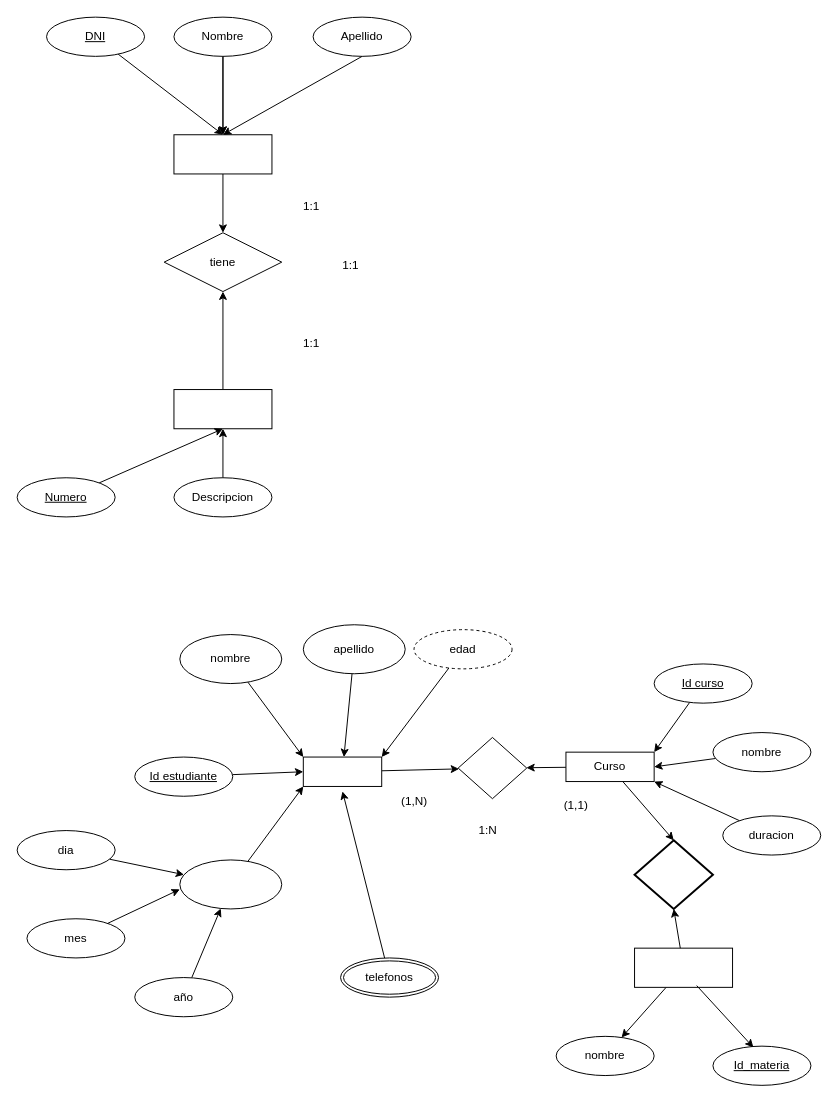
Some shapes in this 838 by 1103 pixel diagram are drawn without their labels. The box of each missing label's shape, as (x1, y1, x2, y2) in pixels:
Estudiante: (302, 756, 382, 786)
Expediente: (173, 389, 272, 429)
fecha de nacimiento: (179, 859, 282, 909)
Materias: (634, 947, 733, 987)
Persona: (173, 134, 272, 174)
Pertenece: (633, 839, 713, 909)
realizan: (457, 736, 527, 799)
